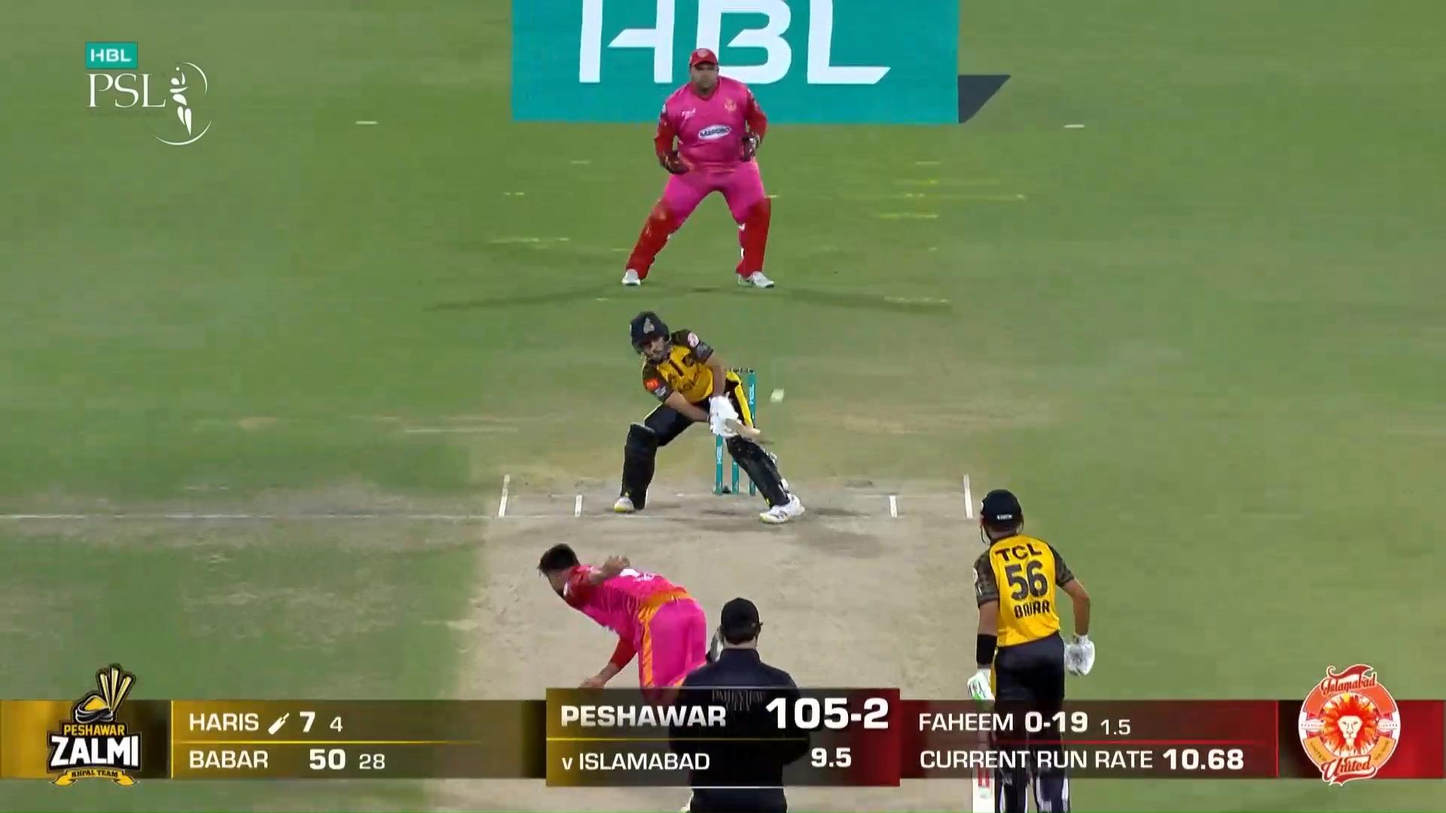batsman: (614, 310, 806, 524)
